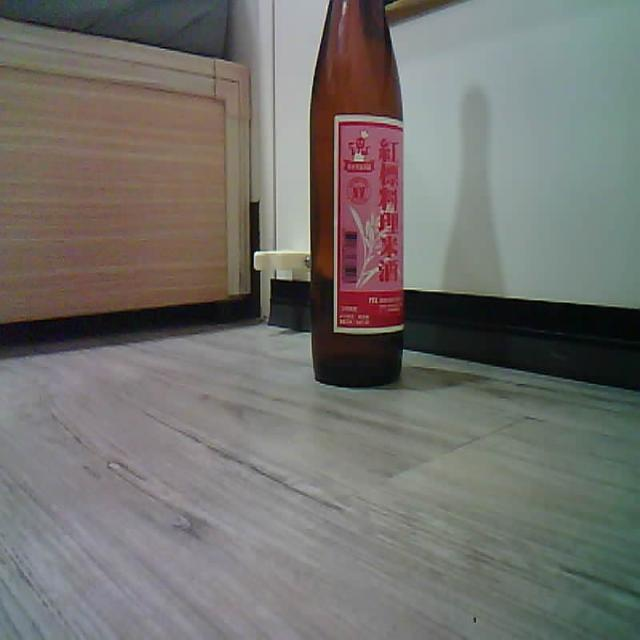bottle: (310, 0, 404, 386)
